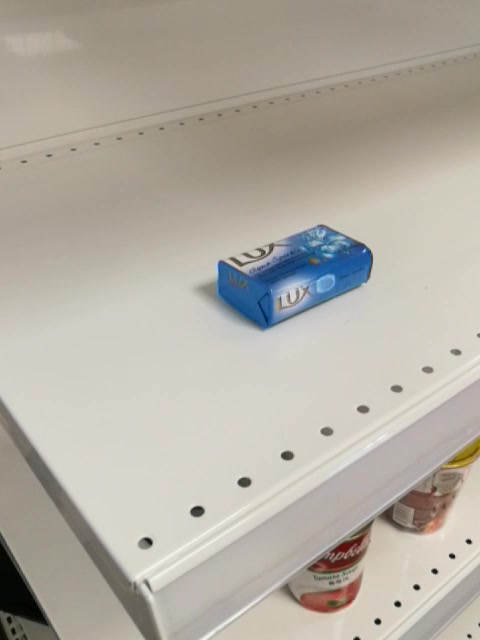soap: (217, 224, 373, 328)
